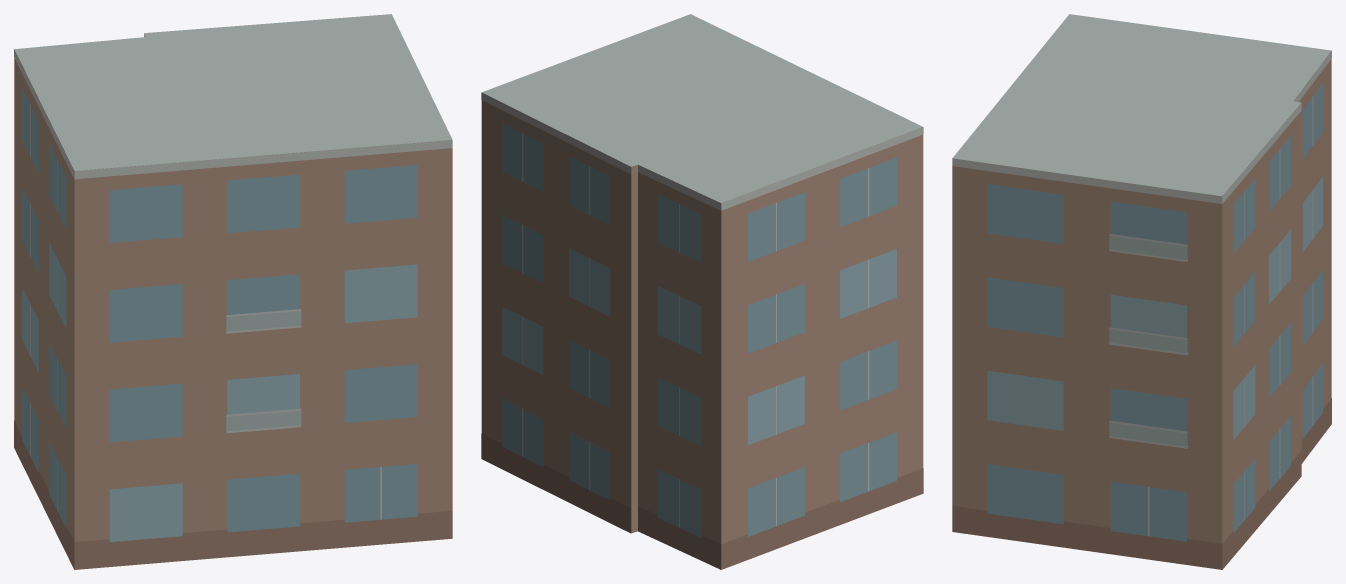
The model's file is survey-upis-32910136.glb.
3 renders of one model, left to right at view 1: azimuth 30°, elevation 25°; view 2: azimuth 150°, elevation 25°; view 3: azimuth 270°, elevation 25°, orthographic. The views are drawn at different scales.
Parts seen in each view (by area): view 1: survey-upis-32910136.tmp; view 2: survey-upis-32910136.tmp; view 3: survey-upis-32910136.tmp.
Boxes of the visible parts, box(x1,y1,x2,y2) form: survey-upis-32910136.tmp: box(14, 14, 452, 569); survey-upis-32910136.tmp: box(481, 14, 923, 569); survey-upis-32910136.tmp: box(952, 14, 1331, 569).
Bounding box in the file's own units: 12.36 × 11.8 × 10.87.
